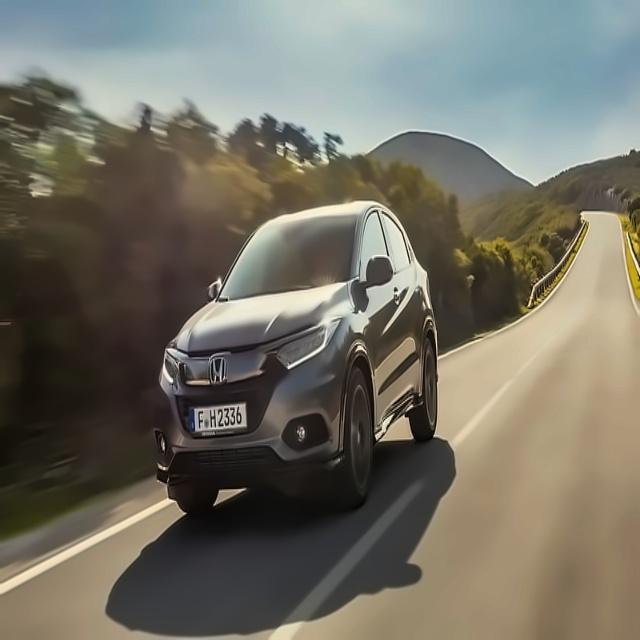Car hood: (163, 279, 354, 357)
Fender - -F-L-: (330, 261, 375, 407)
Front bumper: (144, 381, 350, 513)
Headlight - -L-: (264, 316, 344, 371)
Headlight - -R-: (155, 342, 179, 396)
Passenger-s door - -F-L-: (356, 180, 415, 457)
Passenger-s door - -R-L-: (372, 195, 439, 431)
Side bumper - -L-: (371, 373, 429, 456)
Side mirror - -L-: (361, 251, 395, 298)
Side mirror - -R-: (204, 276, 230, 308)
